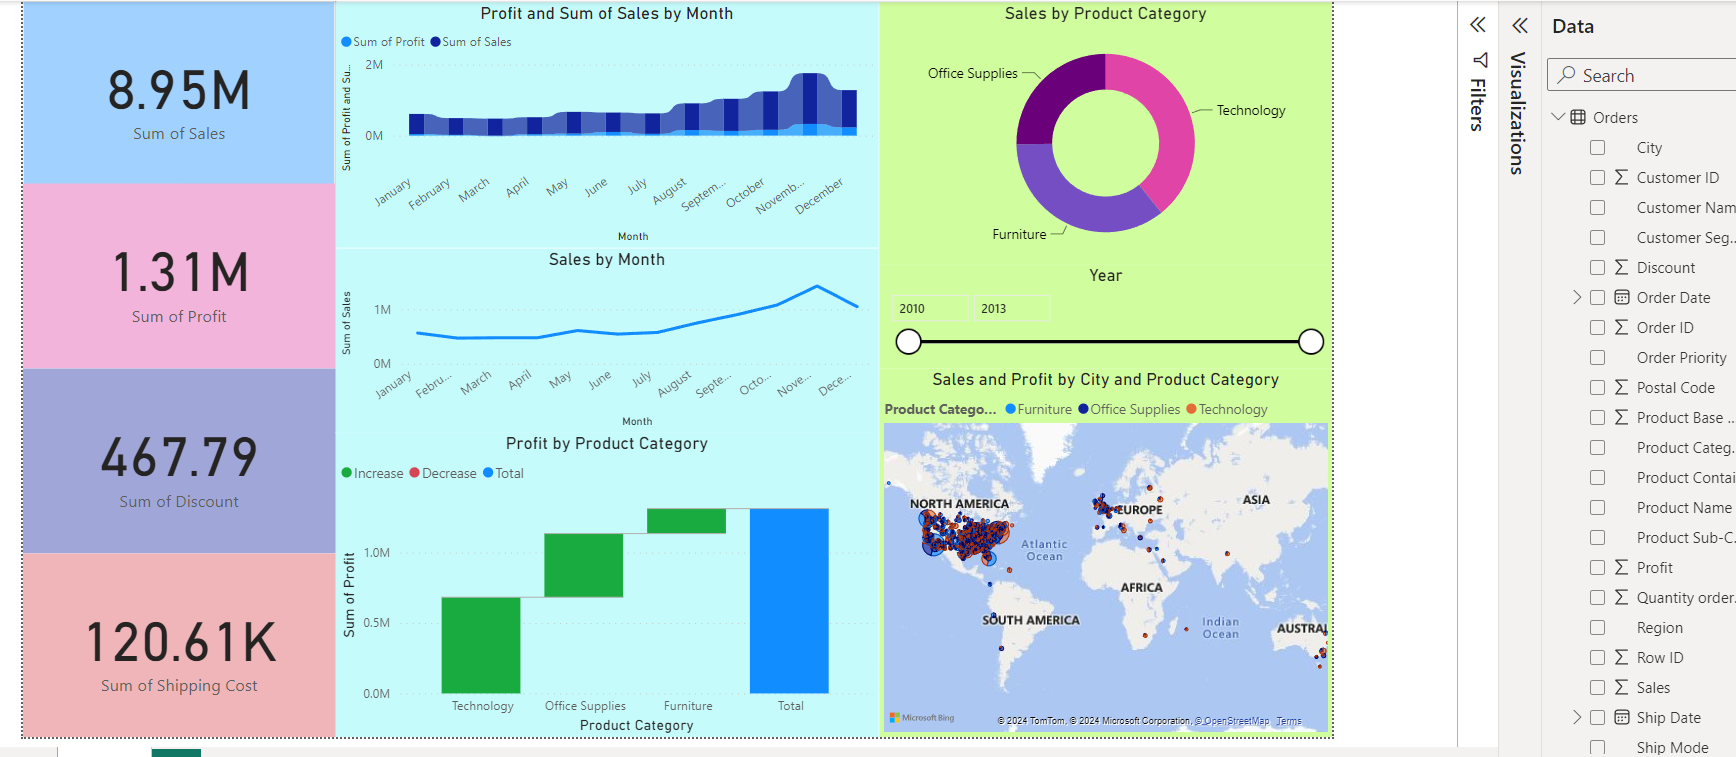

This screenshot's page, from the dashboard's own definition file:
{"tool":"powerbi","page":{"name":"Page 1","canvas":[1280,720],"ordinal":0},"visuals":[{"type":"map","title":"Sales and Profit by City and Product Category","fields":{"Category":["Orders.City"],"Size":["Sum(Orders.Sales)"],"Series":["Orders.Product Category"]},"box":[837.1,359.5,443.2,360.9],"z":0},{"type":"card","fields":{"Values":["Sum(Orders.Sales)"]},"box":[0,0,306,181.1],"z":1},{"type":"card","fields":{"Values":["Sum(Orders.Profit)"]},"box":[0,178.4,306,181.1],"z":2},{"type":"card","fields":{"Values":["Sum(Orders.Discount)"]},"box":[0,359.5,306,181.1],"z":3},{"type":"card","fields":{"Values":["Sum(Orders.Shipping Cost)"]},"box":[0,540.7,306,179.8],"z":4},{"type":"ribbonChart","title":"Profit and Sum of Sales by Month","fields":{"Y":["Sum(Orders.Profit)","Sum(Orders.Sales)"],"Category":["Orders.Order Date.Variation.Date Hierarchy.Month"]},"box":[306,1.4,531,240.1],"z":5},{"type":"lineChart","title":"Sales by Month","fields":{"Y":["Sum(Orders.Sales)"],"Category":["Orders.Order Date.Variation.Date Hierarchy.Month"]},"box":[306,241.5,531,179.8],"z":6},{"type":"waterfallChart","title":"Profit by Product Category","fields":{"Y":["Sum(Orders.Profit)"],"Category":["Orders.Product Category"]},"box":[306,421.3,531,299.1],"z":7},{"type":"donutChart","title":"Sales by Product Category","fields":{"Category":["Orders.Product Category"],"Y":["Sum(Orders.Sales)"]},"box":[837.1,1.4,443.2,256.6],"z":8},{"type":"slicer","title":"Year","fields":{"Values":["Orders.Order Date.Variation.Date Hierarchy.Year"]},"box":[837.1,258,443.2,101.5],"z":9}]}

Visuals, with their boxes on the page's 1280x720 design canvas (x1, y1, x2, y2). These are canvas units, not pixel positions in the 1736x757 screenshot, which may show the page scaled, cropped or inside an application window:
"Sales and Profit by City and Product Category" map: crop(837, 360, 1280, 720)
card - Sum(Orders.Sales): crop(0, 0, 306, 181)
card - Sum(Orders.Profit): crop(0, 178, 306, 360)
card - Sum(Orders.Discount): crop(0, 360, 306, 541)
card - Sum(Orders.Shipping Cost): crop(0, 541, 306, 720)
"Profit and Sum of Sales by Month" ribbonChart: crop(306, 1, 837, 242)
"Sales by Month" lineChart: crop(306, 242, 837, 421)
"Profit by Product Category" waterfallChart: crop(306, 421, 837, 720)
"Sales by Product Category" donutChart: crop(837, 1, 1280, 258)
"Year" slicer: crop(837, 258, 1280, 360)
